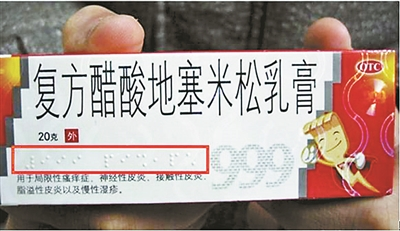Braille: (135, 153, 147, 169), (71, 154, 82, 171), (152, 152, 163, 169), (24, 155, 36, 170), (103, 153, 114, 169), (168, 153, 179, 169), (56, 154, 66, 170), (186, 153, 196, 169), (40, 155, 51, 169), (120, 154, 130, 169)
